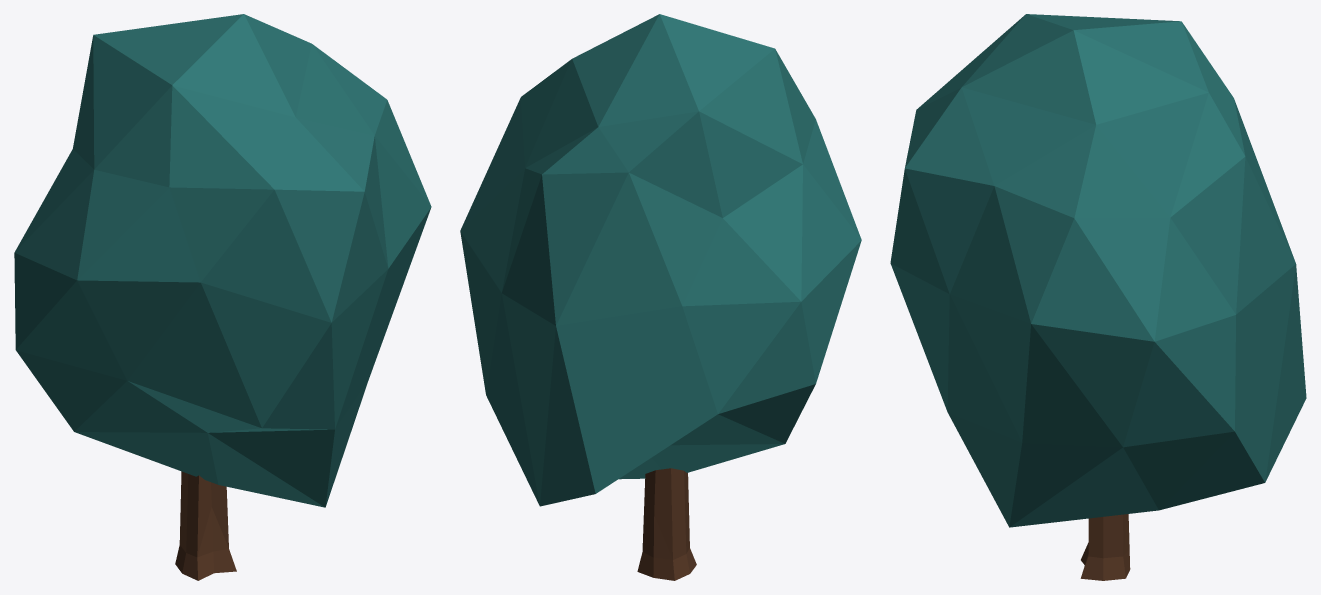
File: Tree_62_Blue.fbx
3 views of the same model, side by side, from view 1: azimuth 30°, elevation 25°; view 2: azimuth 150°, elevation 25°; view 3: azimuth 270°, elevation 25° (orthographic). The views are drawn at different scales.
Parts seen in each view (by area): view 1: Tree_62_Blue_Part_1, Tree_62_Blue_Part_2; view 2: Tree_62_Blue_Part_1, Tree_62_Blue_Part_2; view 3: Tree_62_Blue_Part_1, Tree_62_Blue_Part_2.
Boxes of the visible parts, bbox=[...] form: Tree_62_Blue_Part_1: bbox=[14, 14, 431, 507]; Tree_62_Blue_Part_2: bbox=[175, 471, 236, 580]; Tree_62_Blue_Part_1: bbox=[460, 14, 861, 506]; Tree_62_Blue_Part_2: bbox=[637, 468, 696, 580]; Tree_62_Blue_Part_1: bbox=[890, 14, 1306, 527]; Tree_62_Blue_Part_2: bbox=[1080, 514, 1130, 580].
Bounding box in the file's own units: 533 × 788 × 540.
